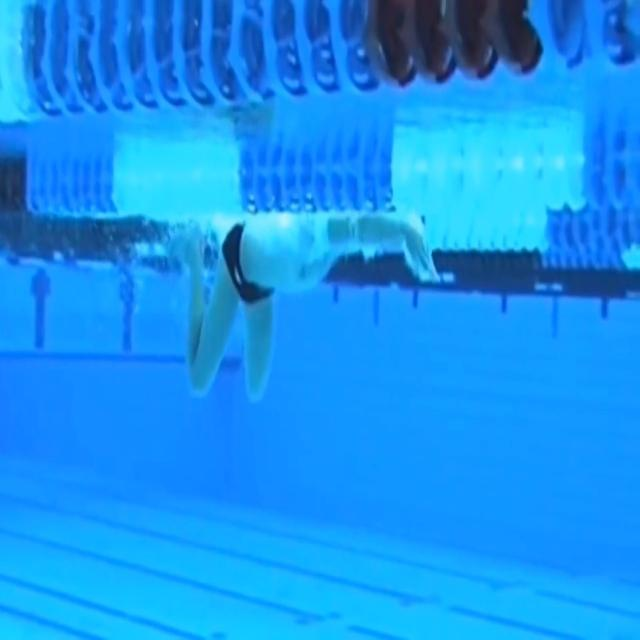Swimming: (169, 217, 441, 400)
